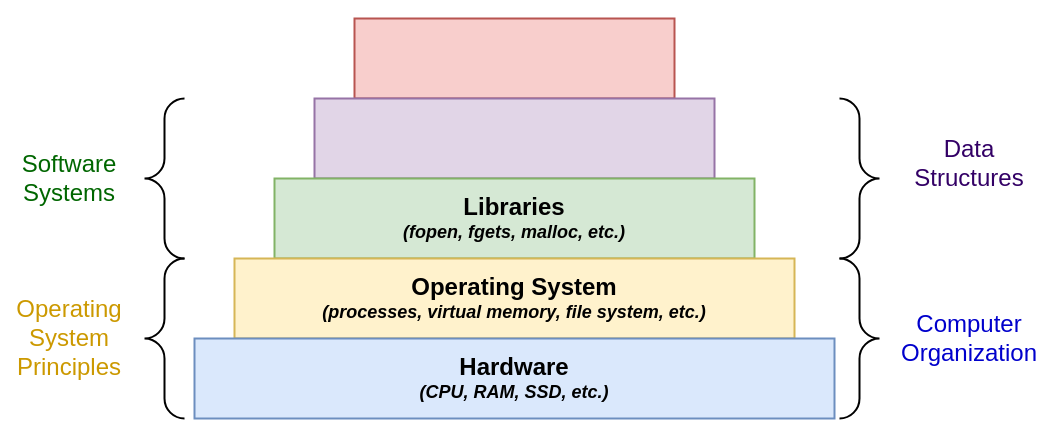
Image size: 1054x436. Some labels were removed from this diagram. Each missing label, with the centre of its shape:
"Applications (shell, editors, filters, etc.)" belongs at point 514,138.
"Users" belongs at point 514,58.
